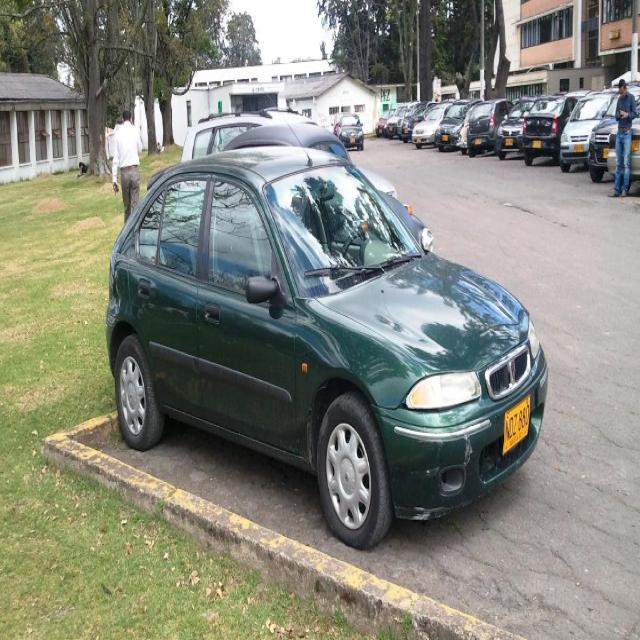car: (104, 131, 550, 550)
